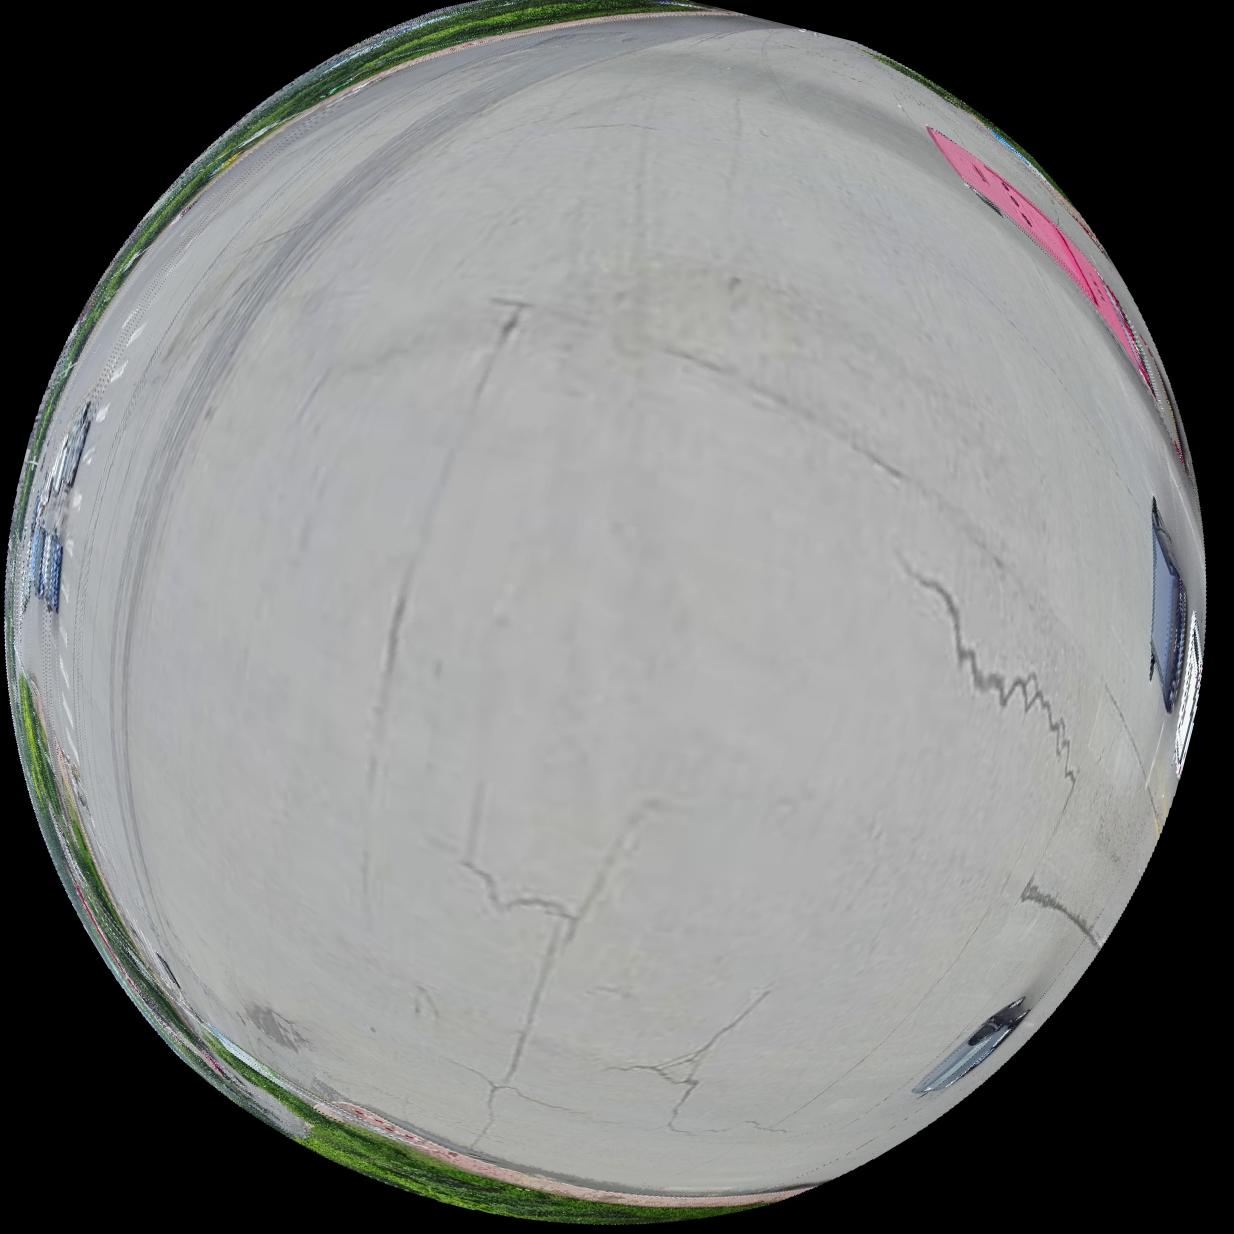cars: (929, 124, 1192, 472), (913, 996, 1032, 1097), (1153, 496, 1189, 712), (1175, 611, 1207, 777), (29, 522, 60, 610)
trees: (51, 0, 581, 390), (277, 1089, 750, 1225)
